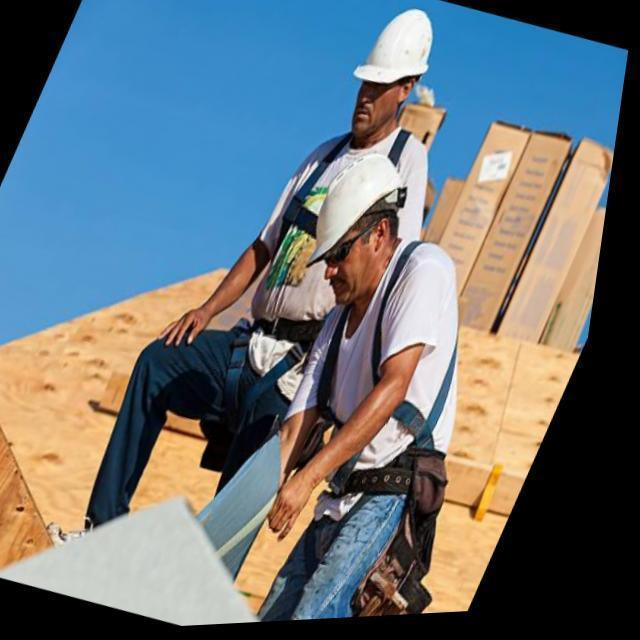Harness: (333, 345, 458, 618)
